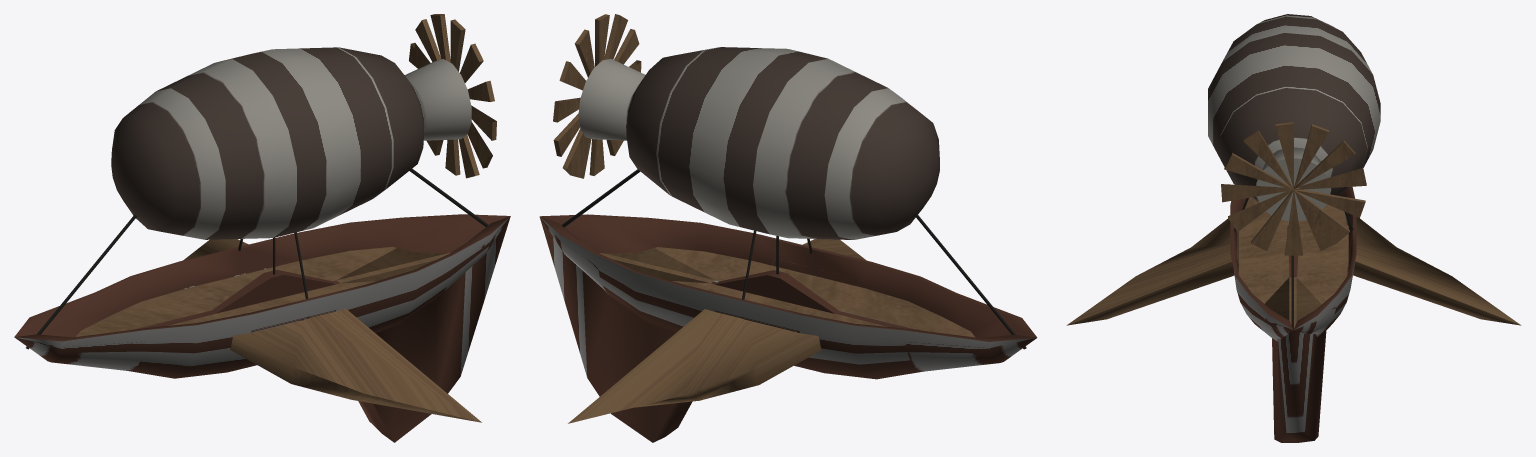
File: enemie 3.fbx
The picture shows the model from 3 angles, left to right: view 1: azimuth 30°, elevation 25°; view 2: azimuth 150°, elevation 25°; view 3: azimuth 270°, elevation 25°; orthographic projection. The views are drawn at different scales.
Visible parts, largest first — view 1: Capsule, boat_1, wings_1, platform_1, proppeler_1, Cylinder_3; view 2: Capsule, boat_1, wings_1, platform_1, proppeler_1, Cylinder_3; view 3: Capsule, wings_1, boat_1, proppeler_1, platform_1.
Boxes of the visible parts, x1,y1,x2,y2 form: Capsule: [111, 47, 471, 239]; boat_1: [14, 214, 510, 442]; wings_1: [164, 239, 481, 422]; platform_1: [76, 246, 450, 336]; proppeler_1: [409, 14, 496, 178]; Cylinder_3: [26, 214, 136, 349]; Capsule: [578, 47, 939, 239]; boat_1: [539, 214, 1037, 442]; wings_1: [568, 239, 866, 423]; platform_1: [600, 247, 975, 337]; proppeler_1: [553, 14, 641, 178]; Cylinder_3: [915, 214, 1026, 349]; Capsule: [1208, 14, 1380, 221]; wings_1: [1066, 217, 1521, 325]; boat_1: [1230, 186, 1356, 442]; proppeler_1: [1221, 122, 1366, 255]; platform_1: [1238, 197, 1347, 328].
Bounding box in the file's own units: 1606 × 1239 × 1467.
Materials: 4 (4 with a texture image).
